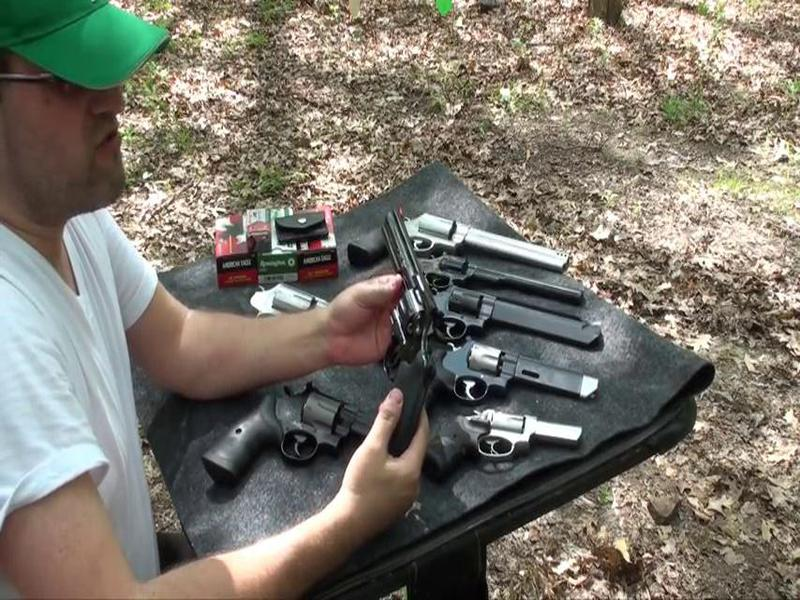Revolver: (370, 207, 449, 449)
